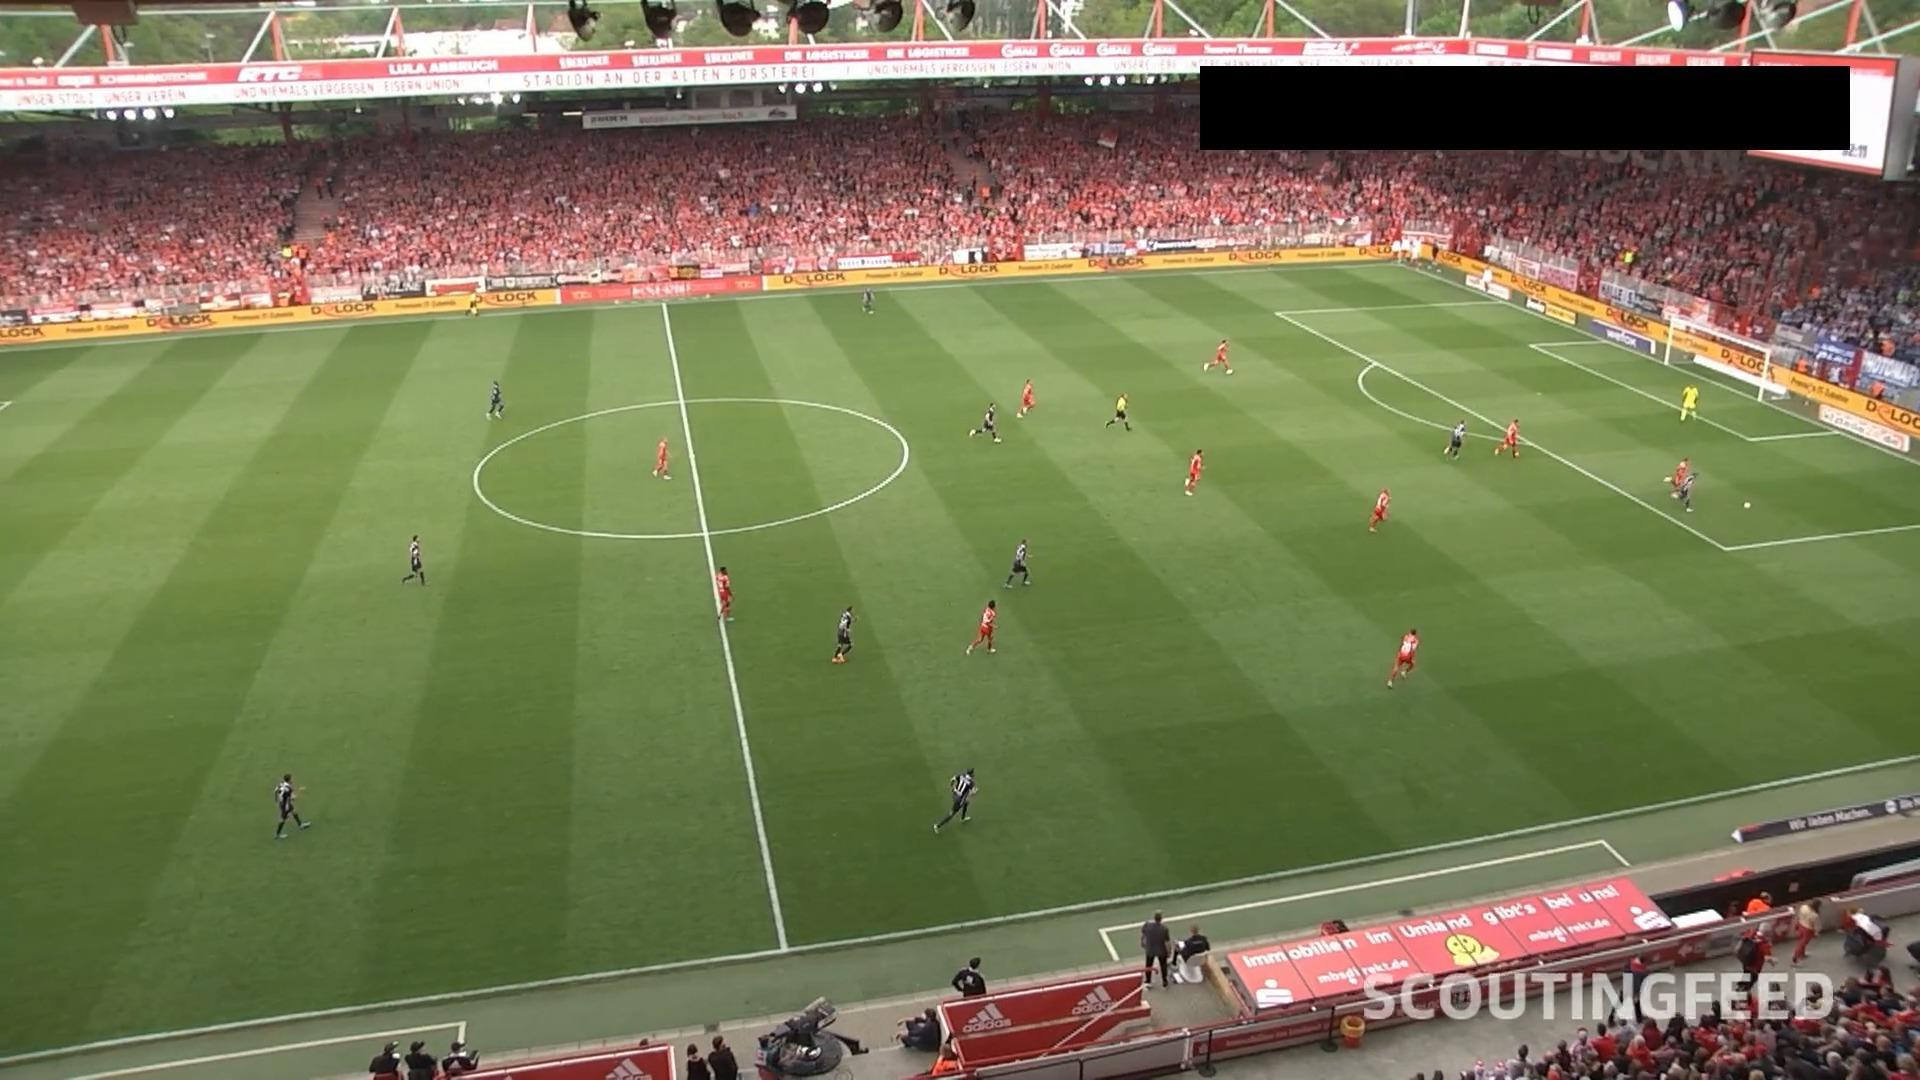ball: (1743, 501, 1753, 510)
